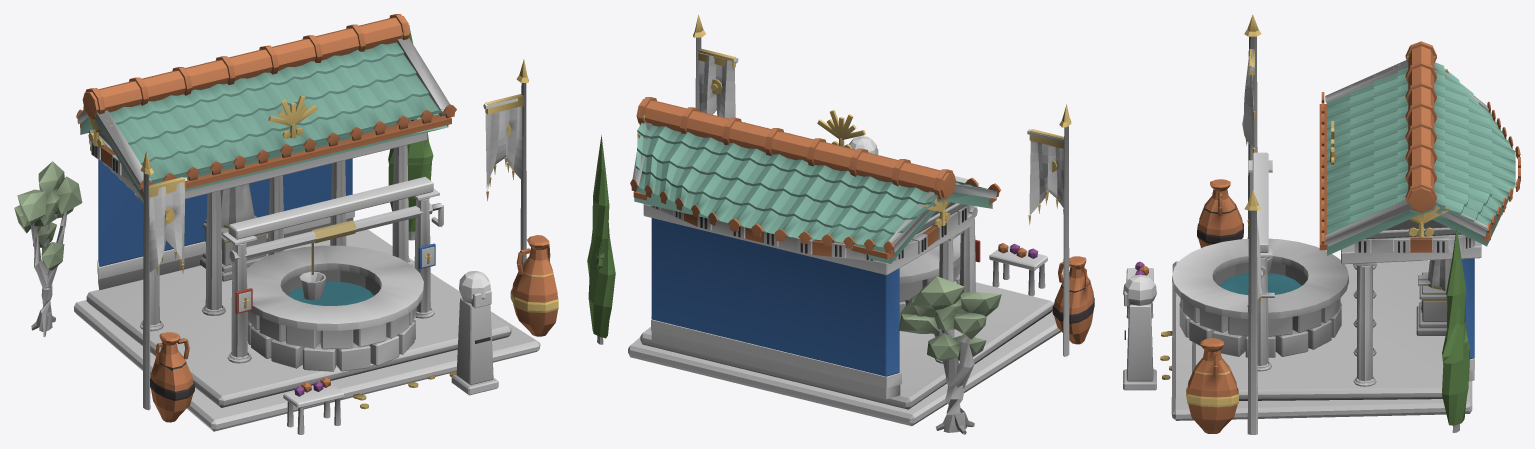
The model's file is offering-well-l3.glb.
The picture shows the model from 3 angles, left to right: view 1: azimuth 30°, elevation 25°; view 2: azimuth 150°, elevation 25°; view 3: azimuth 270°, elevation 25°; orthographic projection. The views are drawn at different scales.
Visible parts, largest first — view 1: offering-well-l3; view 2: offering-well-l3; view 3: offering-well-l3.
Part boxes in pixels (box(x1,y1,x2,y2)): offering-well-l3: box(14, 14, 558, 434); offering-well-l3: box(587, 14, 1094, 434); offering-well-l3: box(1123, 14, 1520, 434).
Bounding box in the file's own units: 1.53 × 0.9096 × 1.33.
